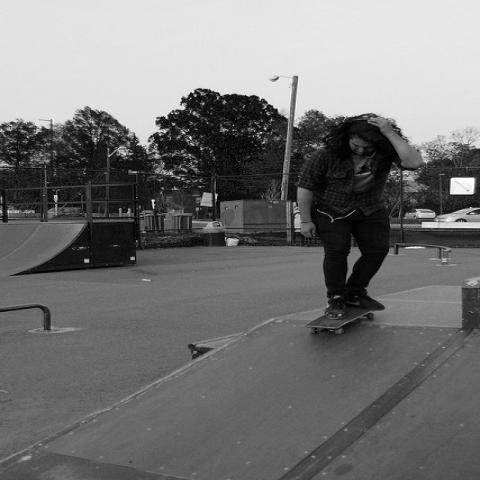car: (435, 207, 479, 223), (403, 209, 436, 219)
